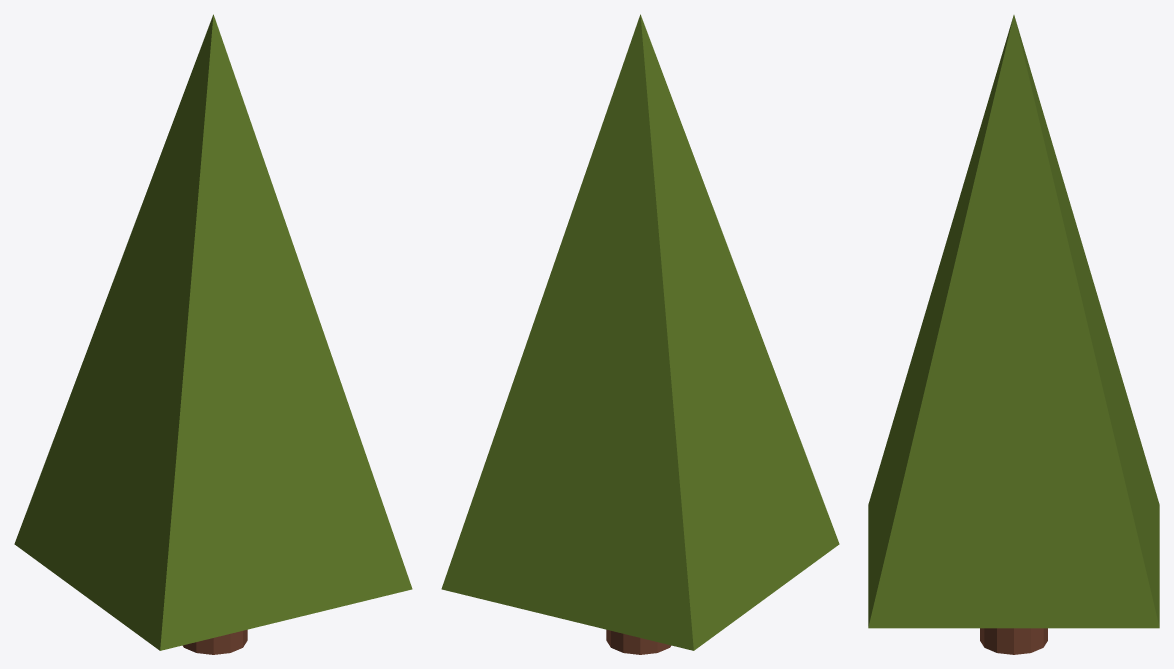
File: Tree_36_autumn_vc.fbx
3 views of the same model, side by side, from view 1: azimuth 30°, elevation 25°; view 2: azimuth 150°, elevation 25°; view 3: azimuth 270°, elevation 25° (orthographic).
Parts seen in each view (by area): view 1: Tree_36_autumn_vc; view 2: Tree_36_autumn_vc; view 3: Tree_36_autumn_vc.
Part boxes in pixels (x1,y1,x2,y2): Tree_36_autumn_vc: (14,14,412,654); Tree_36_autumn_vc: (441,14,839,654); Tree_36_autumn_vc: (868,15,1159,654).
Size of the model in its own units: 69.07 by 164 by 69.07.
